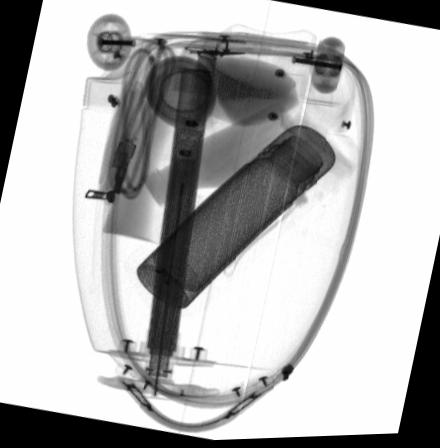Scissors: (182, 45, 247, 64)
